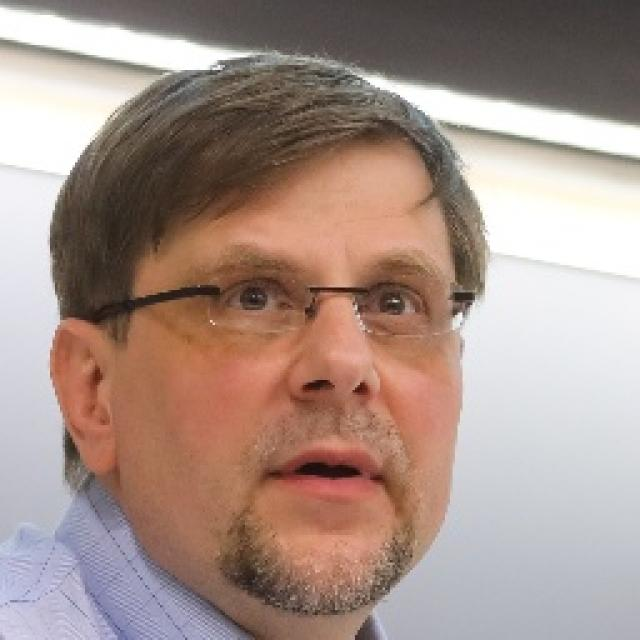earlobe: (47, 320, 119, 478)
